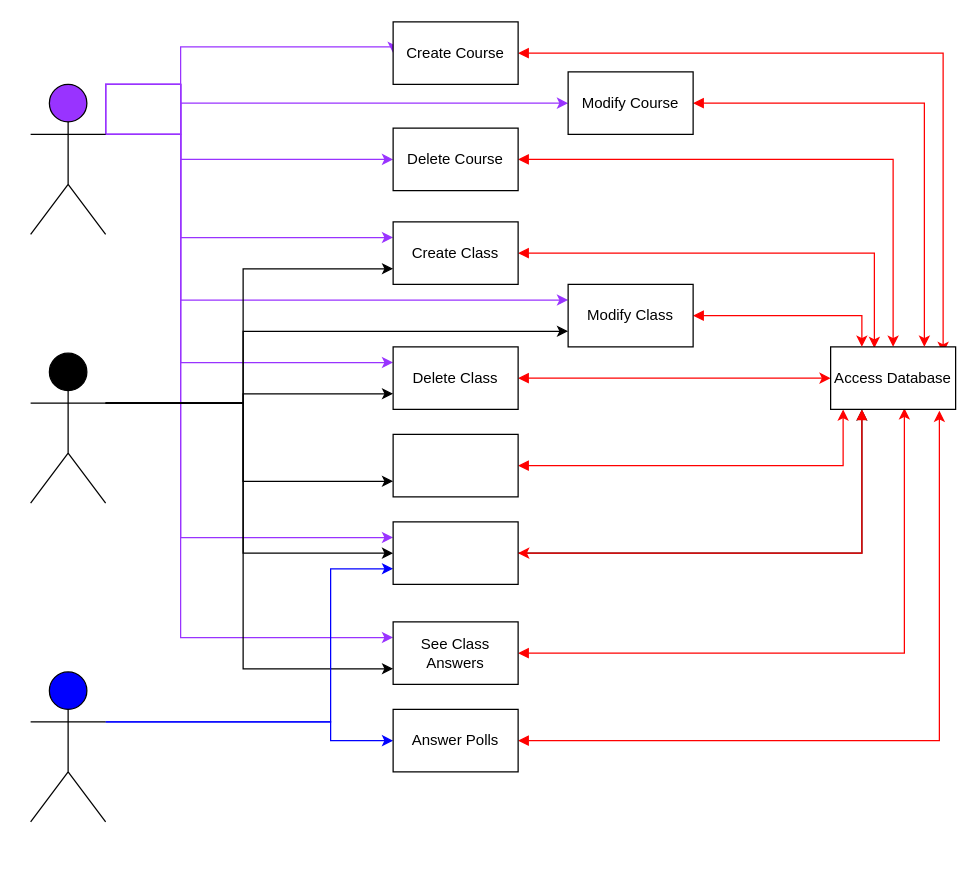
Some shapes in this 978 by 880 pixel diagram are drawn without their labels. The shapes that lost their labels are listed below. From the top down, each one's centre as x and y in pixels, then its label:
At point (67, 158): "Admin".
At point (67, 427): "Instructor".
At point (455, 465): "Upload Questions".
At point (455, 552): "Login".
At point (67, 746): "Student".
